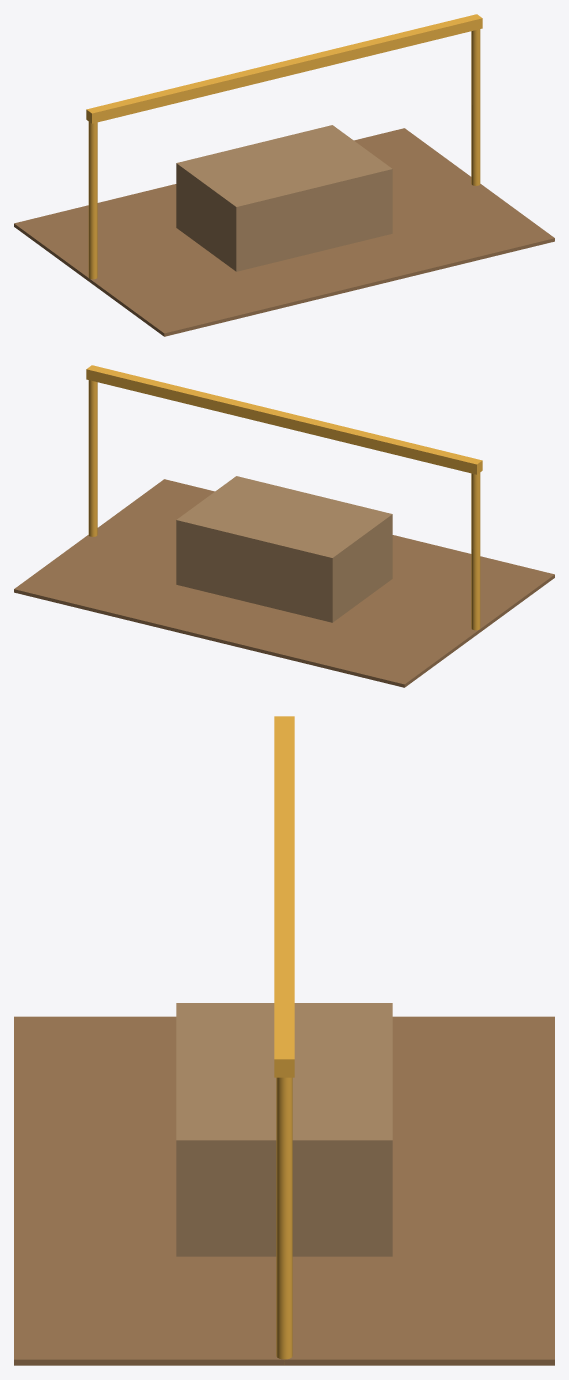
File: outdoor-fitness-station.glb
3 views of the same model, one above another, from view 1: azimuth 30°, elevation 25°; view 2: azimuth 150°, elevation 25°; view 3: azimuth 270°, elevation 25° (orthographic). The views are drawn at different scales.
Parts seen in each view (by area): view 1: outdoor-fitness-station-0, outdoor-fitness-station-4, outdoor-fitness-station-1; view 2: outdoor-fitness-station-0, outdoor-fitness-station-4, outdoor-fitness-station-1; view 3: outdoor-fitness-station-0, outdoor-fitness-station-4, outdoor-fitness-station-1.
Part boxes in pixels (box(x1,y1,x2,y2)): outdoor-fitness-station-0: box(14, 128, 554, 336); outdoor-fitness-station-4: box(176, 125, 392, 271); outdoor-fitness-station-1: box(86, 14, 482, 279); outdoor-fitness-station-0: box(14, 479, 554, 687); outdoor-fitness-station-4: box(176, 476, 392, 622); outdoor-fitness-station-1: box(86, 365, 482, 630); outdoor-fitness-station-0: box(14, 1016, 554, 1365); outdoor-fitness-station-4: box(176, 1003, 392, 1256); outdoor-fitness-station-1: box(274, 716, 294, 1359).
Bounding box in the file's own units: 6 × 2.5 × 4.
